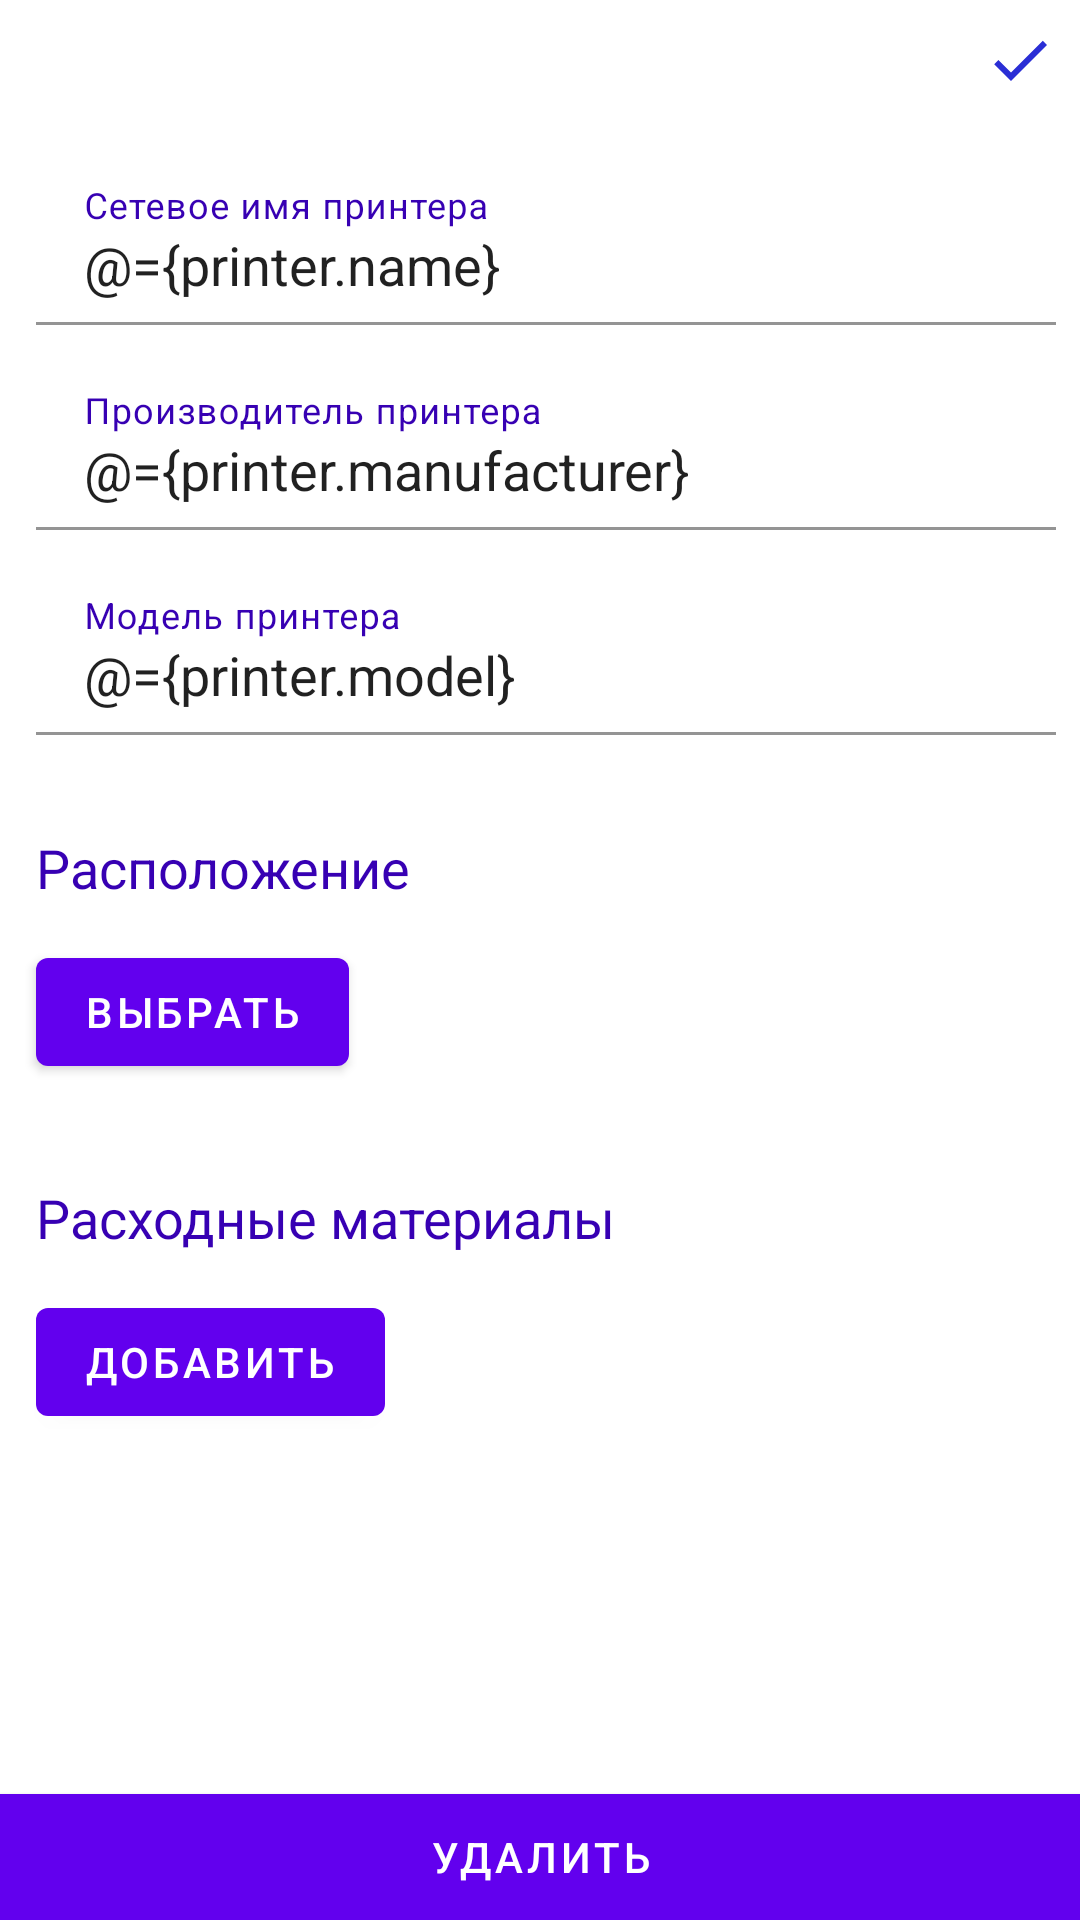

Icons on this 1080 x 1920 Android screen, each with its box as (x1, y1, x2, y2):
done: (994, 41, 1047, 81)
